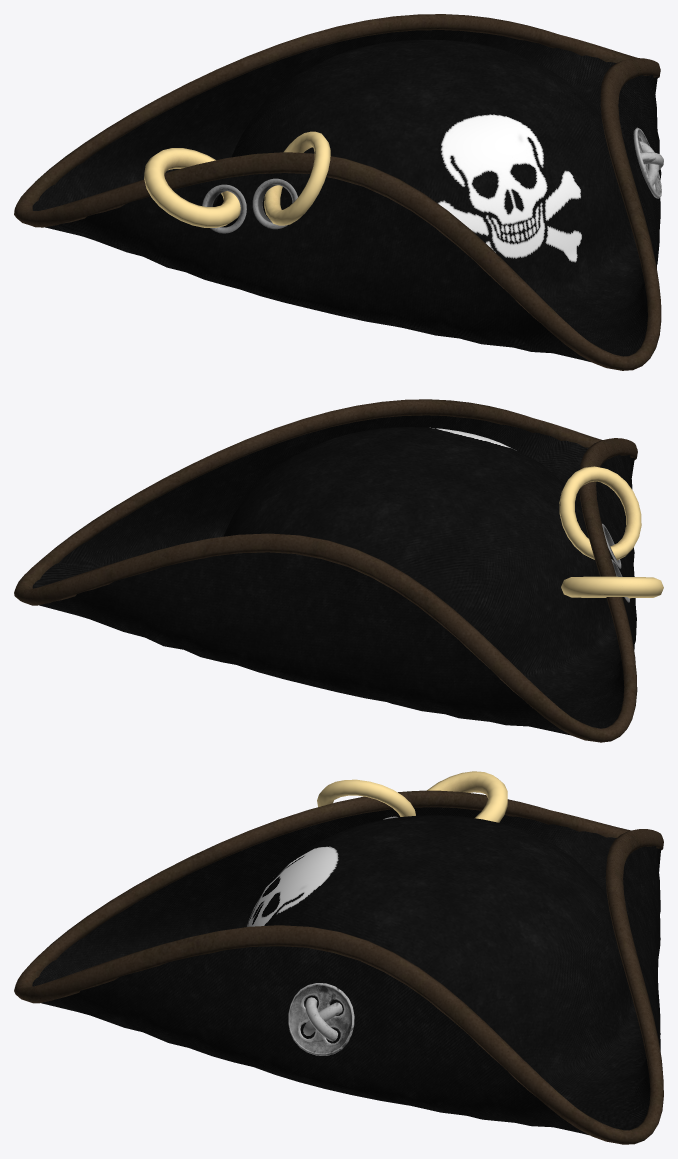
File: pirate_hat.glb
The picture shows the model from 3 angles, top to bottom: view 1: azimuth 30°, elevation 25°; view 2: azimuth 150°, elevation 25°; view 3: azimuth 270°, elevation 25°; orthographic projection. The views are drawn at different scales.
Parts seen in each view (by area): view 1: Hat_Body_MP, Hat_Border_MP, Hat_Anello1_MP, Hat_Anello2_MP, Hat_Ring_Hole1_MP, Hat_Ring_Hole2_MP, Hat_Bottom_Base_MP; view 2: Hat_Body_MP, Hat_Border_MP, Hat_Anello2_MP, Hat_Anello1_MP; view 3: Hat_Body_MP, Hat_Border_MP, Hat_Bottom_Base_MP, Hat_Anello1_MP, Hat_Anello2_MP, Hat_Bottom_Detail2_MP.
Boxes of the visible parts, x1,y1,x2,y2 form: Hat_Body_MP: [32, 30, 661, 362]; Hat_Border_MP: [14, 14, 661, 370]; Hat_Anello1_MP: [144, 148, 240, 227]; Hat_Anello2_MP: [264, 131, 330, 225]; Hat_Ring_Hole1_MP: [252, 178, 297, 229]; Hat_Ring_Hole2_MP: [202, 184, 246, 233]; Hat_Bottom_Base_MP: [633, 127, 661, 198]; Hat_Body_MP: [32, 415, 636, 735]; Hat_Border_MP: [14, 399, 637, 742]; Hat_Anello2_MP: [559, 466, 641, 560]; Hat_Anello1_MP: [561, 576, 663, 598]; Hat_Body_MP: [32, 807, 660, 1135]; Hat_Border_MP: [14, 790, 663, 1144]; Hat_Bottom_Base_MP: [288, 983, 354, 1055]; Hat_Anello1_MP: [427, 771, 507, 822]; Hat_Anello2_MP: [317, 779, 415, 816]; Hat_Bottom_Detail2_MP: [305, 997, 337, 1041].
Bounding box in the file's own units: 165 × 41.82 × 147.
Materials: 1 (1 with a texture image).
